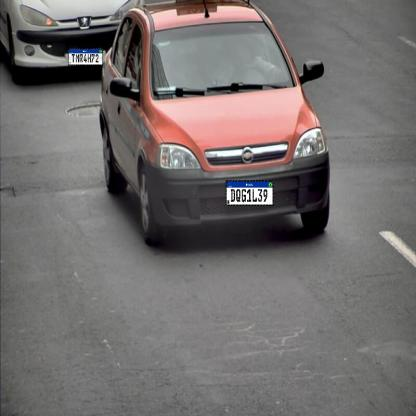PlacaM: (226, 180, 274, 206), (68, 49, 103, 65)
